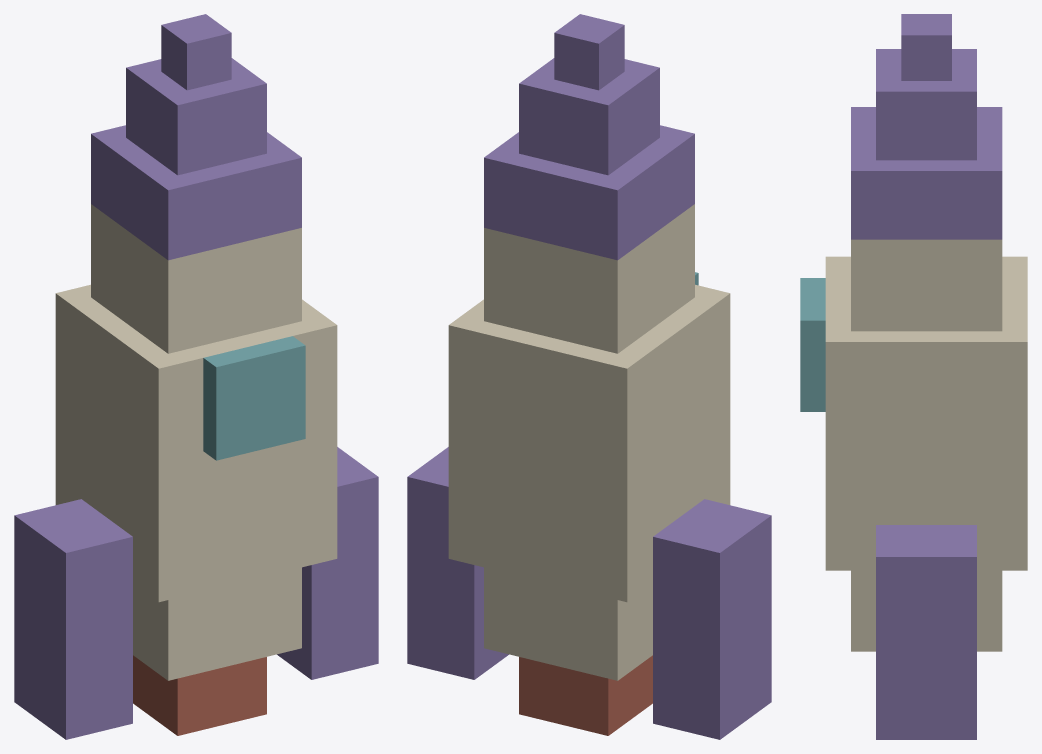
The model's file is software-08.glb.
The picture shows the model from 3 angles, left to right: view 1: azimuth 30°, elevation 25°; view 2: azimuth 150°, elevation 25°; view 3: azimuth 270°, elevation 25°; orthographic projection. The views are drawn at different scales.
Parts seen in each view (by area): view 1: Release rocket; view 2: Release rocket; view 3: Release rocket.
Boxes of the visible parts, left/top/right/bottom form: Release rocket: left=14, top=14, right=378, bottom=739; Release rocket: left=407, top=14, right=771, bottom=739; Release rocket: left=800, top=14, right=1027, bottom=739.
Size of the model in its own units: 1.12 by 2.32 by 0.72.
